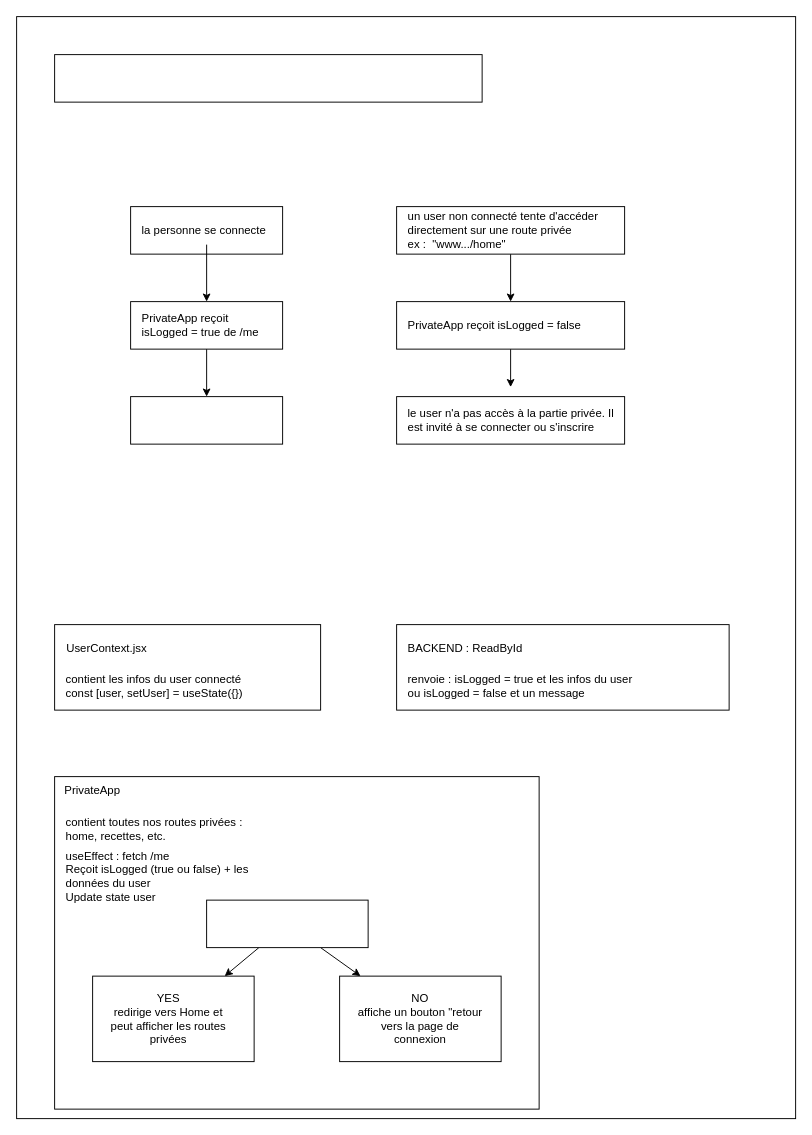
Some shapes in this 812 by 1135 pixel diagram are drawn without their labels. Here are the shapes that lost their labels. From the top down, the box of each, then its label:
(54, 54, 482, 102): Objectif : verrouiller l'application contre les users pas connectés
(130, 396, 283, 444): le user se balade dans l'app privée
(206, 899, 368, 948): isLogged = true ?
